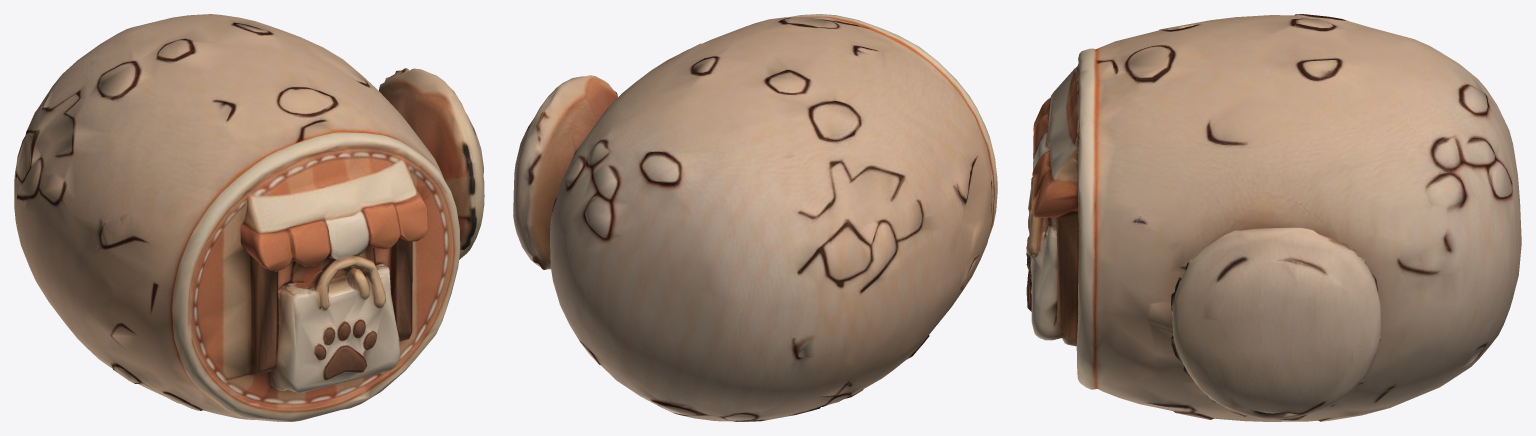
File: space-shop.glb
The picture shows the model from 3 angles, left to right: view 1: azimuth 30°, elevation 25°; view 2: azimuth 150°, elevation 25°; view 3: azimuth 270°, elevation 25°; orthographic projection. The views are drawn at different scales.
Parts seen in each view (by area): view 1: Mesh_0; view 2: Mesh_0; view 3: Mesh_0.
Part boxes in pixels (box(x1,y1,x2,y2)): Mesh_0: box(14, 14, 484, 421); Mesh_0: box(513, 14, 997, 421); Mesh_0: box(1026, 14, 1521, 421).
Bounding box in the file's own units: 2 × 1.62 × 1.99.
1 material, 1 textured.
